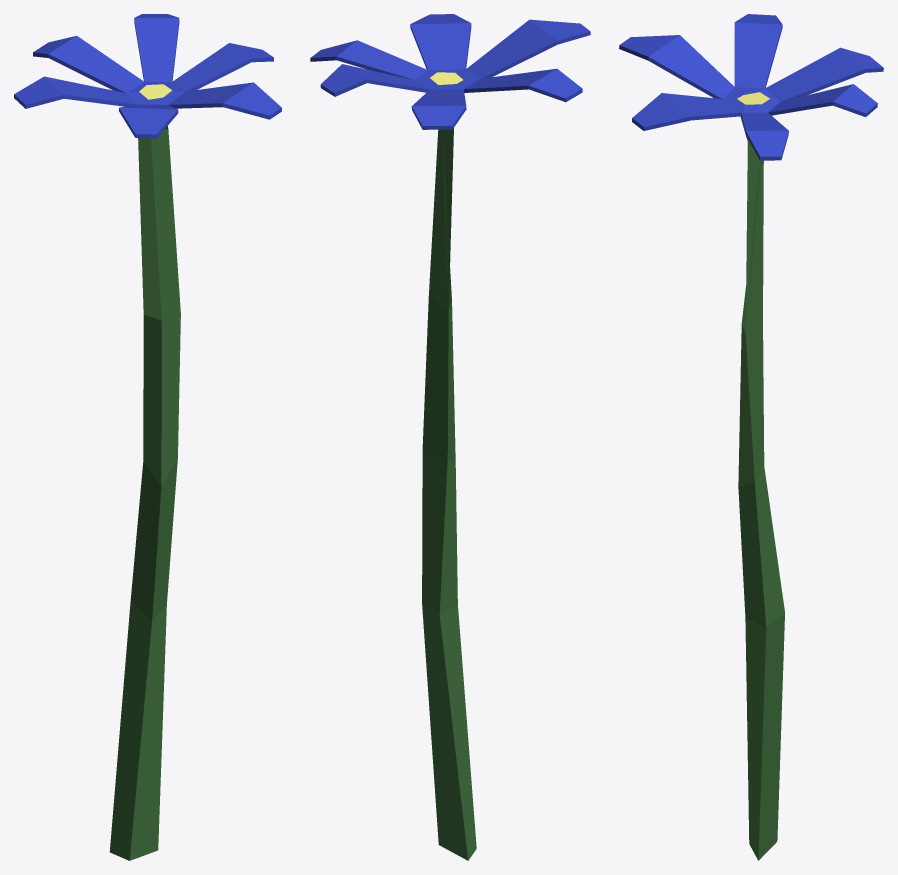
Rendered from flowerblue01.gltf.
3 renders of one model, left to right at view 1: azimuth 30°, elevation 25°; view 2: azimuth 150°, elevation 25°; view 3: azimuth 270°, elevation 25°, orthographic.
Parts seen in each view (by area): view 1: Cylinder; view 2: Cylinder; view 3: Cylinder.
Part boxes in pixels (left/top/right/bottom): Cylinder: left=14, top=14, right=281, bottom=860; Cylinder: left=310, top=14, right=590, bottom=860; Cylinder: left=619, top=14, right=883, bottom=860.
Size of the model in its own units: 0.0668 by 0.1986 by 0.0605.
1 material, 1 textured.
